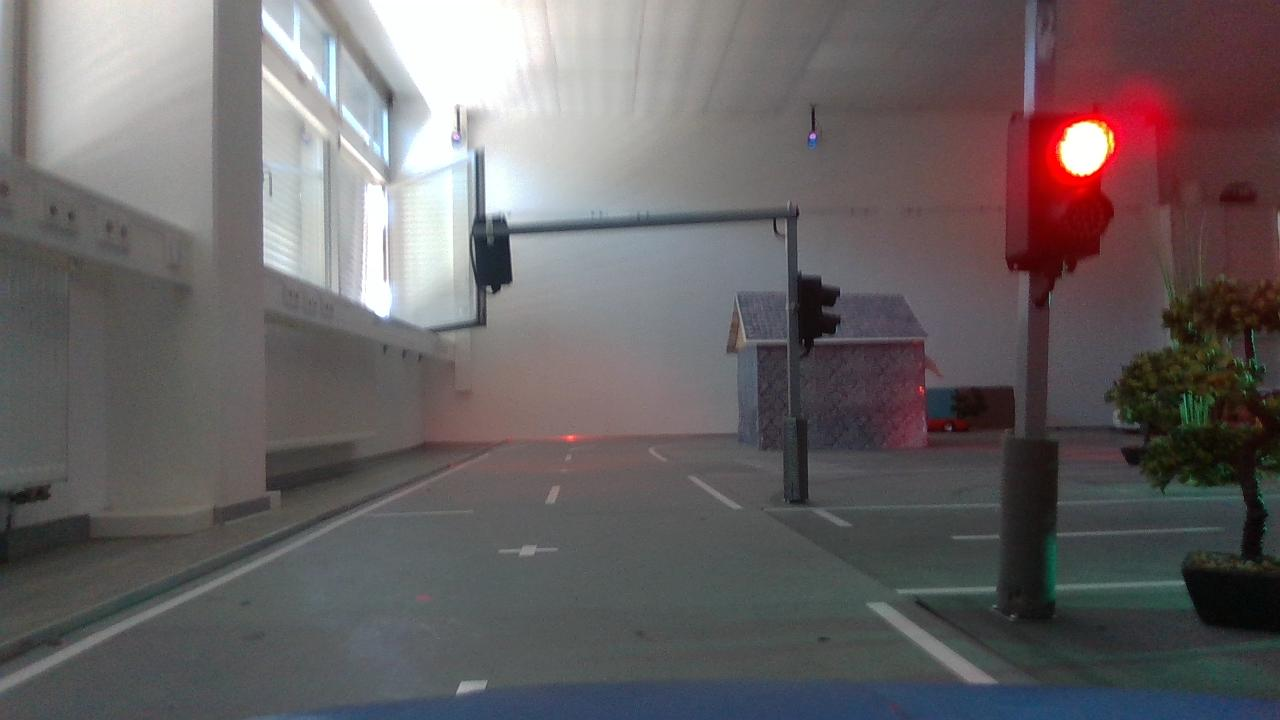traffic_light_red: (980, 83, 1129, 298)
